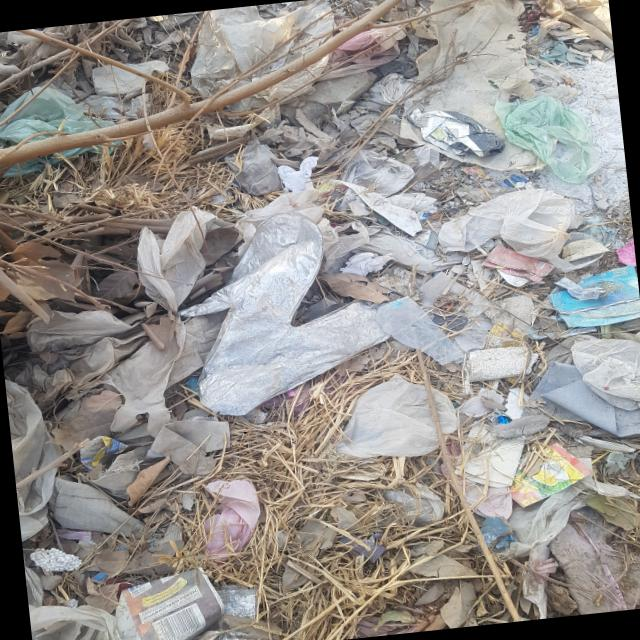electronic: (492, 431, 624, 524), (109, 564, 229, 640), (549, 264, 640, 329)
